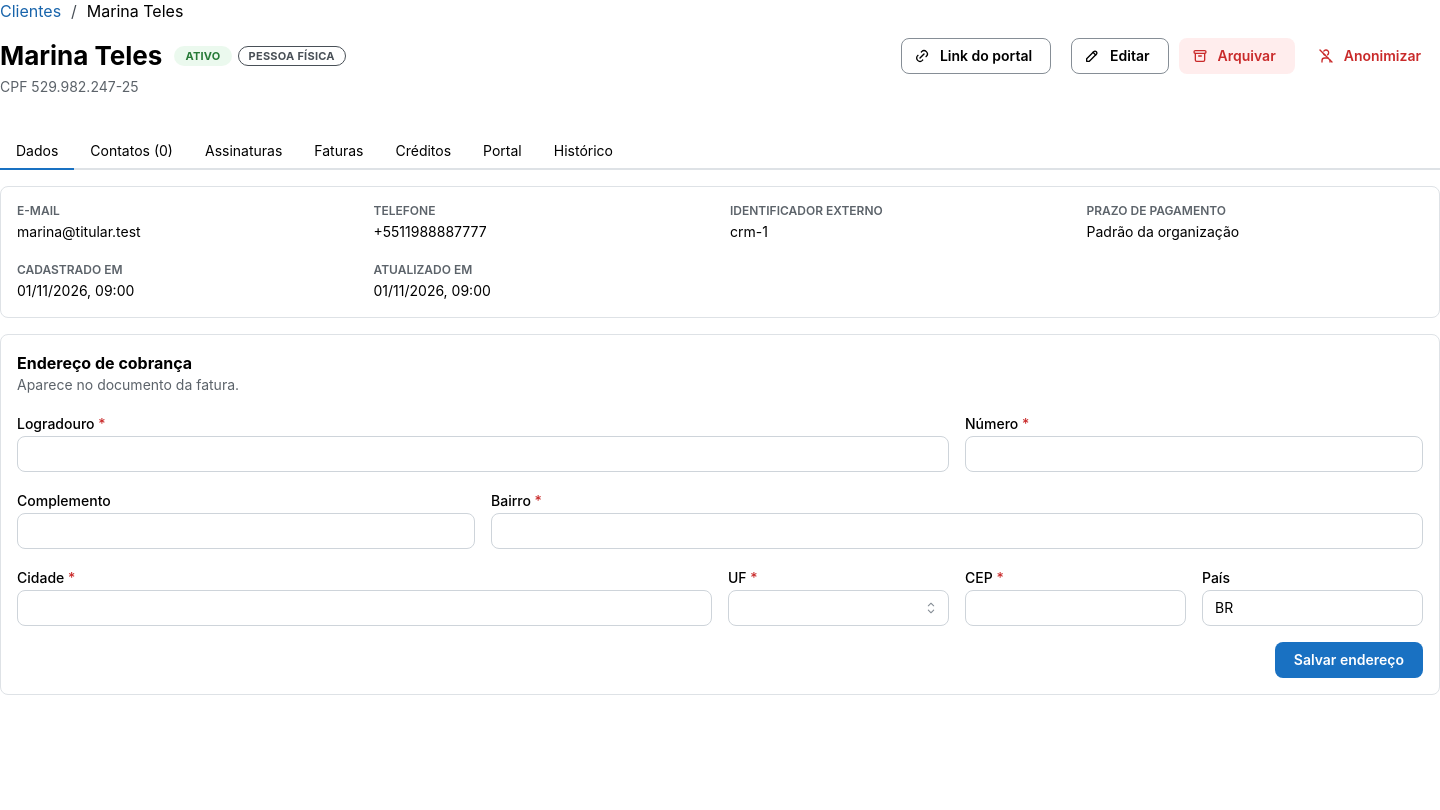
Test case: anonimização de cliente › o diálogo com os identificadores do provedor continua aberto depois que a ficha recarrega com o cliente anonimizado
Click the button "Anonimizar": (1372, 56) [1305,38,1439,74]
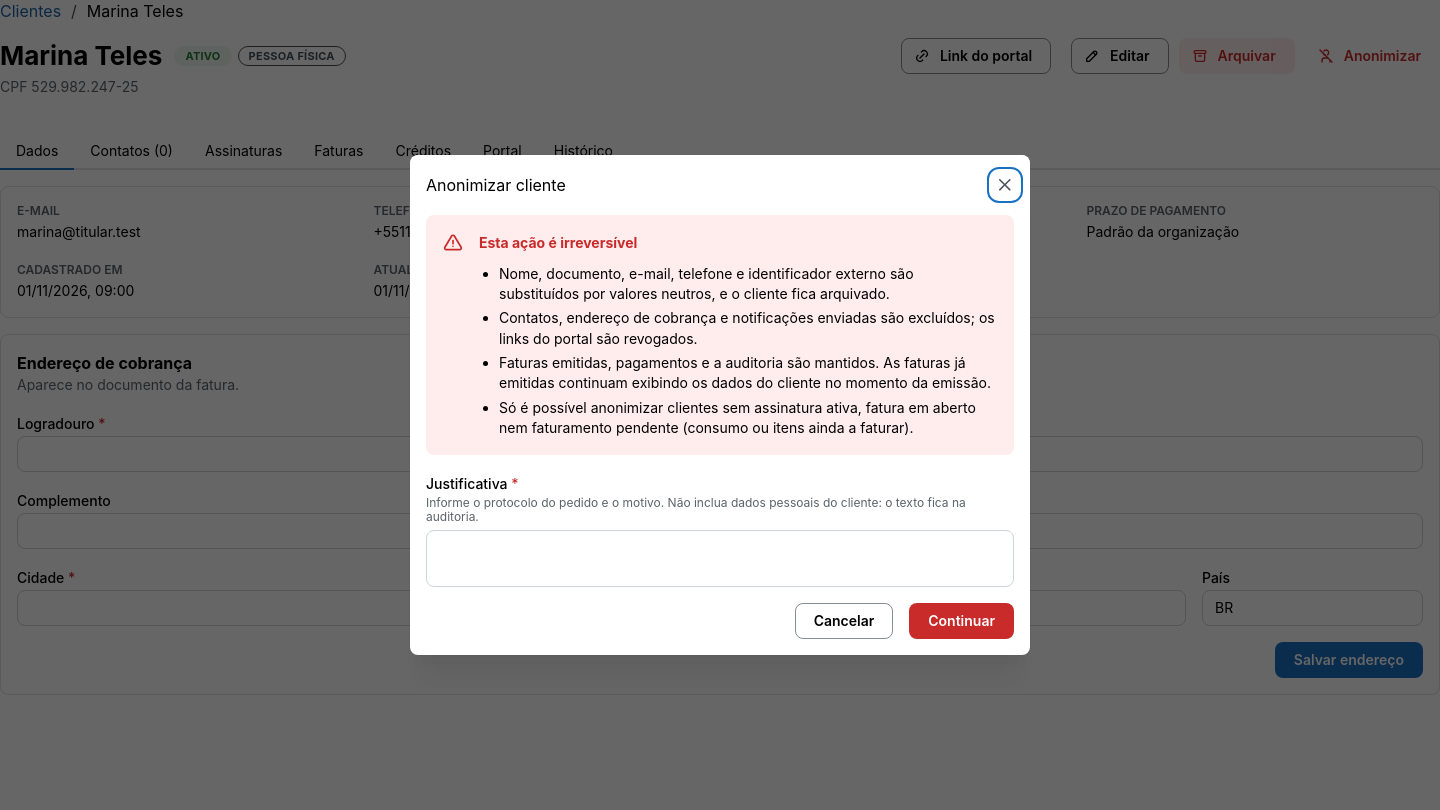
In the text box labelled "Justificativa *": (720, 558) [426,530,1014,587], type "Pedido de eliminação, protocolo 2026/0042"
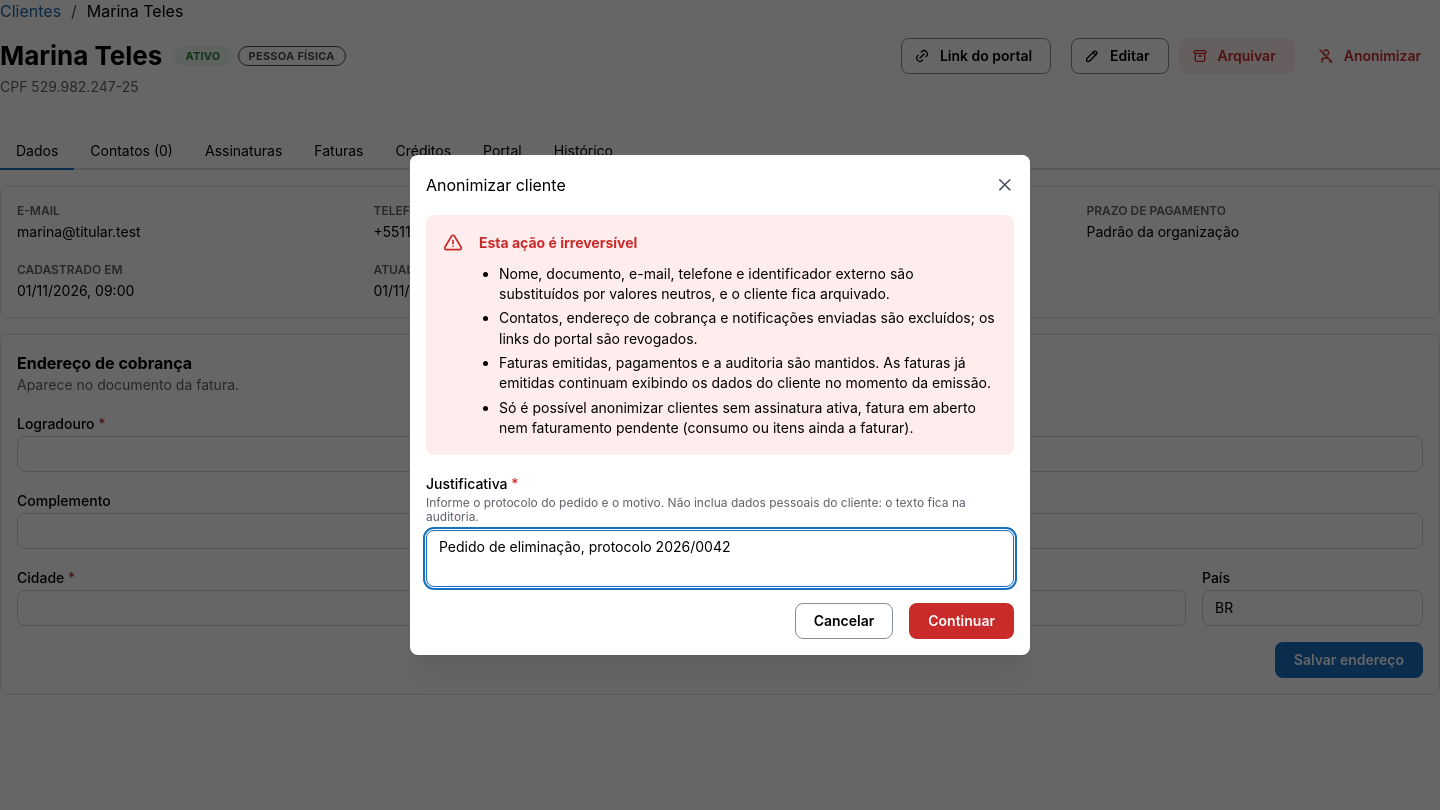
Click the button "Continuar": (962, 621) [909,603,1014,639]
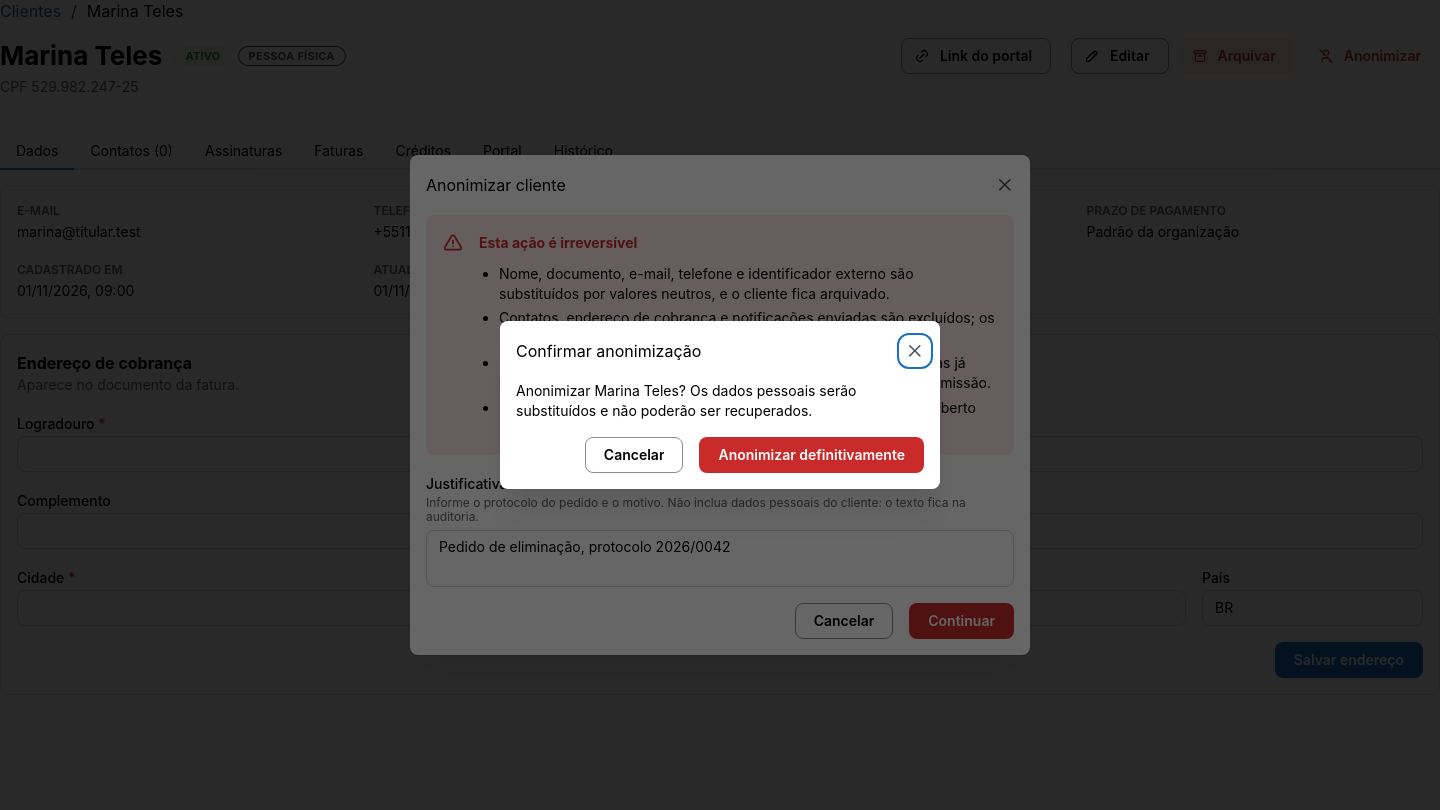
Click the button "Anonimizar definitivamente": (812, 455) [700,437,924,473]
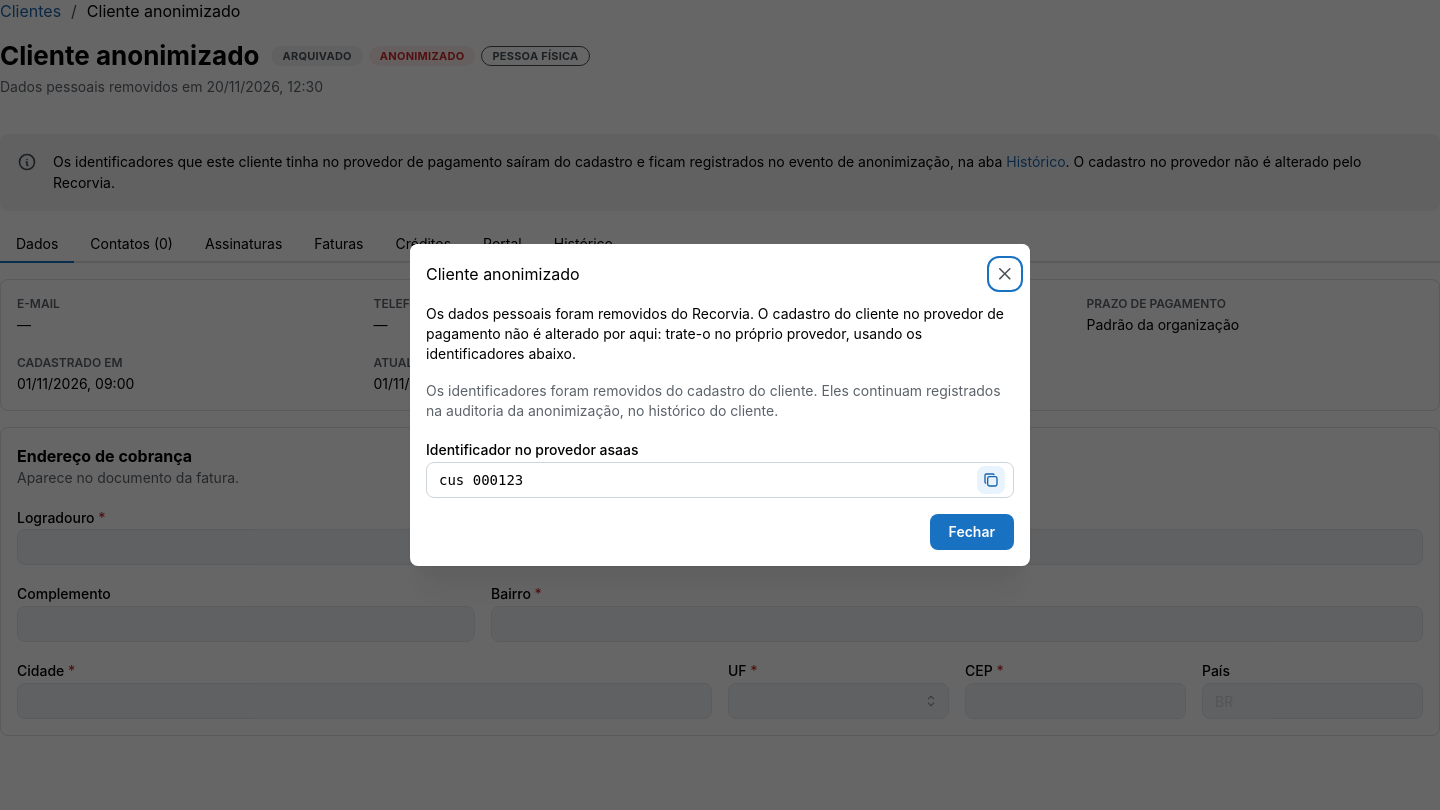
Check: the text "Dados pessoais removidos em 20/11/2026, 12:30" is shown, box [0,78,323,96]
Check: the text "Anonimizado" is shown, box [380,47,464,65]
Check: the text "Anonimizar" is gone
Click the button "Fechar": (972, 532) [930,514,1014,550]
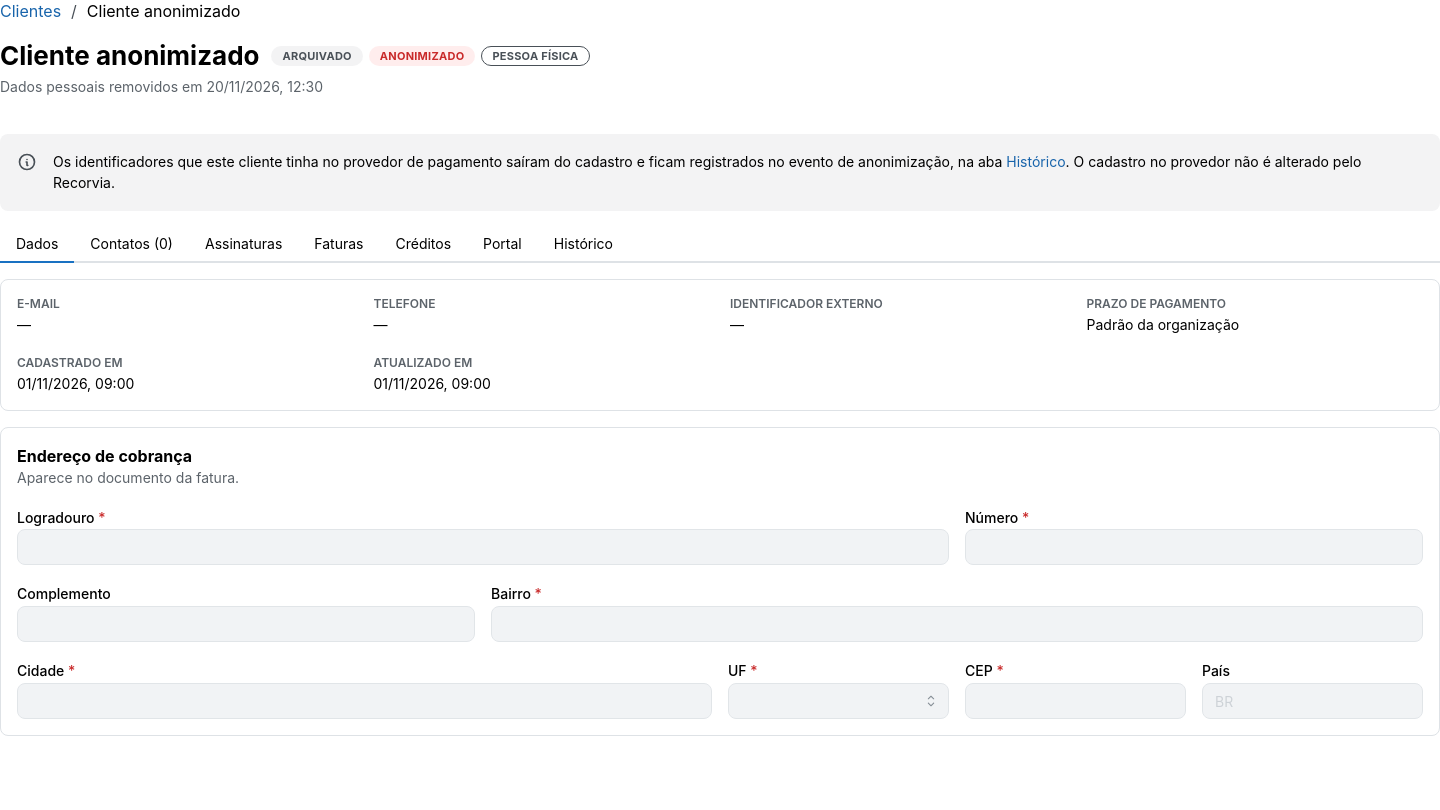
Check: the label labelled "Identificador no provedor asaas" is gone
